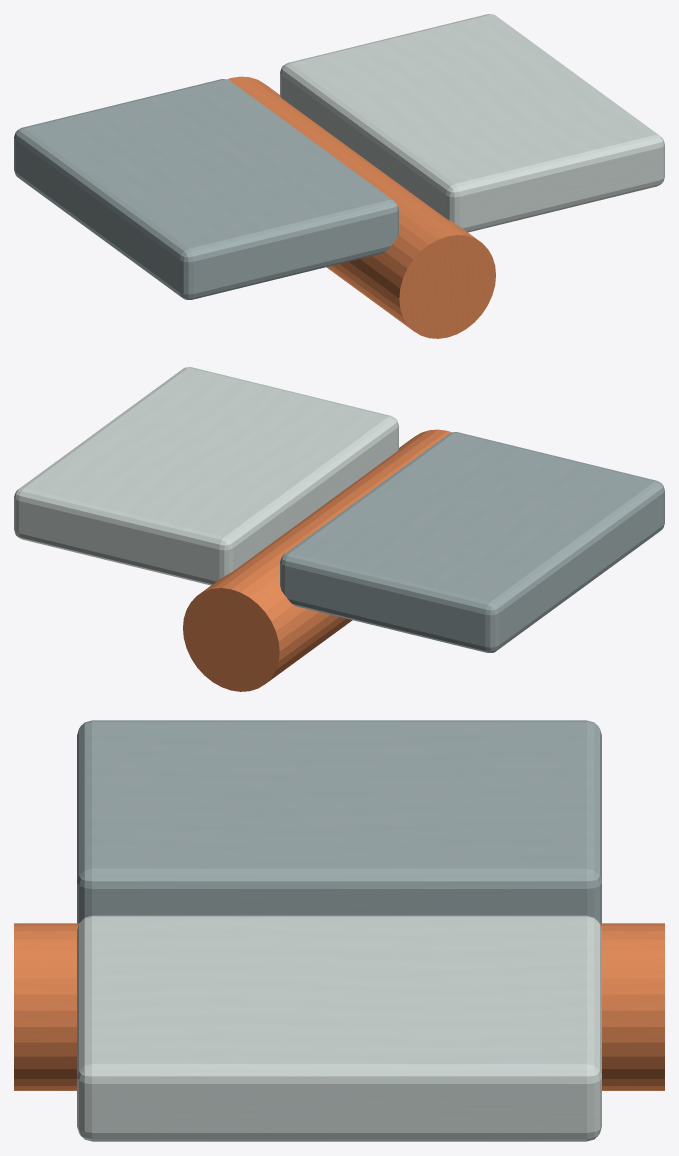
File: hinge.glb
The picture shows the model from 3 angles, top to bottom: view 1: azimuth 30°, elevation 25°; view 2: azimuth 150°, elevation 25°; view 3: azimuth 270°, elevation 25°; orthographic projection. The views are drawn at different scales.
Visible parts, largest first — view 1: Hinge_Left_Leaf, Hinge_Right_Leaf, Hinge_Pin; view 2: Hinge_Left_Leaf, Hinge_Right_Leaf, Hinge_Pin; view 3: Hinge_Right_Leaf, Hinge_Left_Leaf, Hinge_Pin.
Part boxes in pixels (x1,y1,x2,y2): Hinge_Left_Leaf: (14, 79, 398, 299); Hinge_Right_Leaf: (280, 14, 664, 232); Hinge_Pin: (227, 76, 495, 338); Hinge_Left_Leaf: (280, 432, 664, 652); Hinge_Right_Leaf: (14, 367, 398, 585); Hinge_Pin: (183, 429, 451, 691); Hinge_Right_Leaf: (77, 915, 601, 1141); Hinge_Left_Leaf: (77, 720, 601, 923); Hinge_Pin: (14, 923, 664, 1090).
Size of the model in its own units: 0.8 by 0.2 by 0.62.
3 materials, 3 textured.
